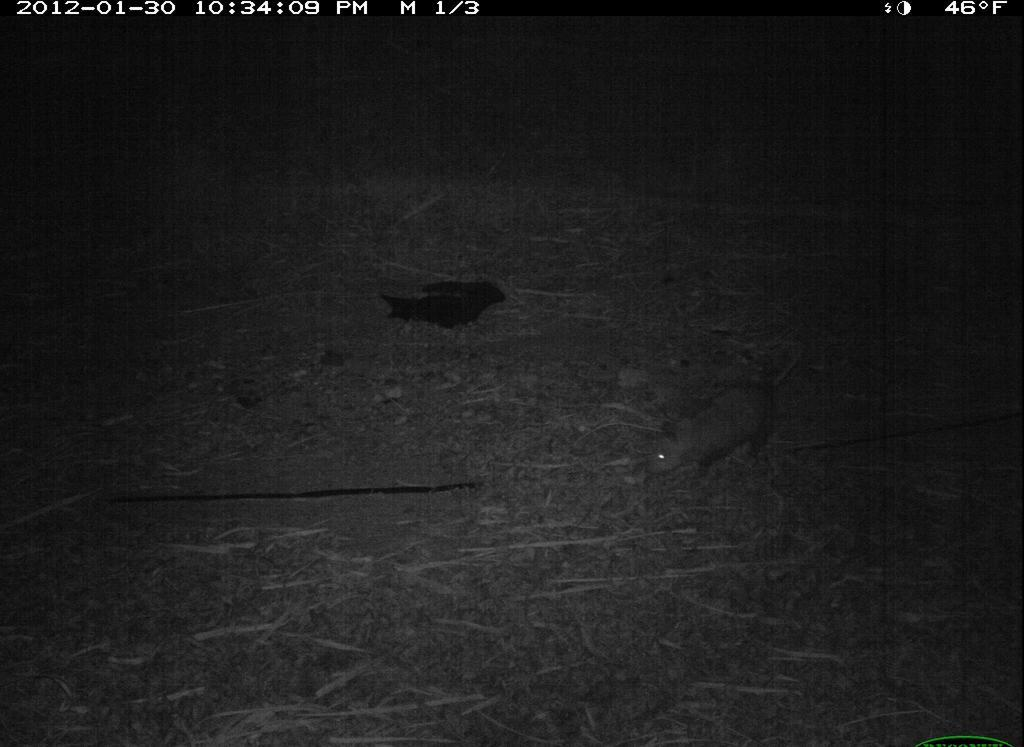opossum: (633, 331, 818, 511)
